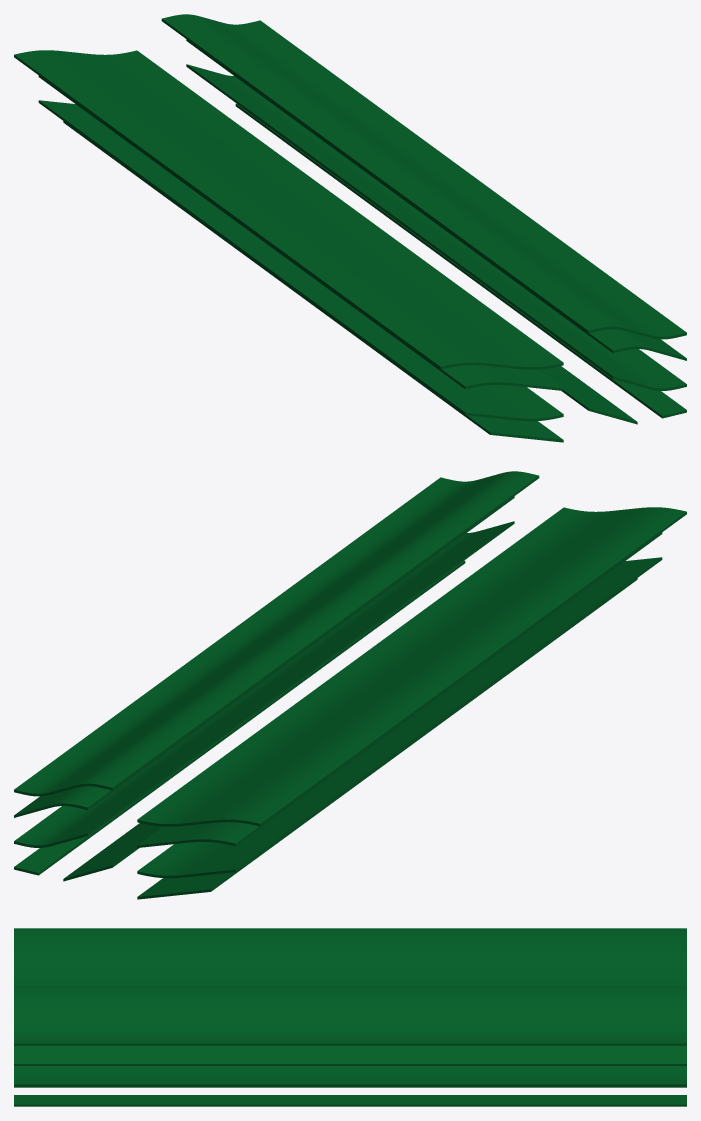
The model's file is Floor.glb.
The picture shows the model from 3 angles, top to bottom: view 1: azimuth 30°, elevation 25°; view 2: azimuth 150°, elevation 25°; view 3: azimuth 270°, elevation 25°; orthographic projection. The views are drawn at different scales.
Visible parts, largest first — view 1: Long-Ramp-EaseInOut-F-col, Ramp-EaseInOut-F-col, Long-Ramp-EaseIn-F-col, Ramp-EaseIn-F-col, Long-Ramp-EaseOut-F-col, Straight-F-col, Long-Ramp-F-col, Ramp-EaseOut-F-col, Ramp-F-col; view 2: Long-Ramp-EaseInOut-F-col, Ramp-EaseInOut-F-col, Long-Ramp-EaseIn-F-col, Ramp-EaseIn-F-col, Long-Ramp-EaseOut-F-col, Straight-F-col, Long-Ramp-F-col, Ramp-EaseOut-F-col, Ramp-F-col; view 3: Ramp-EaseInOut-F-col, Long-Ramp-EaseInOut-F-col, Ramp-EaseOut-F-col, Ramp-EaseIn-F-col, Straight-F-col, Ramp-F-col.
Part boxes in pixels (left/top/right/bottom): Long-Ramp-EaseInOut-F-col: left=14, top=50, right=563, bottom=369; Ramp-EaseInOut-F-col: left=161, top=14, right=686, bottom=339; Long-Ramp-EaseIn-F-col: left=38, top=100, right=563, bottom=421; Ramp-EaseIn-F-col: left=186, top=64, right=686, bottom=390; Long-Ramp-EaseOut-F-col: left=38, top=75, right=563, bottom=390; Straight-F-col: left=235, top=103, right=686, bottom=418; Long-Ramp-F-col: left=63, top=121, right=563, bottom=442; Ramp-EaseOut-F-col: left=186, top=39, right=686, bottom=360; Ramp-F-col: left=538, top=366, right=637, bottom=424; Long-Ramp-EaseInOut-F-col: left=137, top=507, right=686, bottom=826; Ramp-EaseInOut-F-col: left=14, top=471, right=539, bottom=796; Long-Ramp-EaseIn-F-col: left=137, top=557, right=662, bottom=878; Ramp-EaseIn-F-col: left=14, top=521, right=514, bottom=847; Long-Ramp-EaseOut-F-col: left=137, top=532, right=662, bottom=847; Straight-F-col: left=14, top=560, right=465, bottom=875; Long-Ramp-F-col: left=137, top=578, right=637, bottom=899; Ramp-EaseOut-F-col: left=14, top=496, right=514, bottom=817; Ramp-F-col: left=63, top=823, right=162, bottom=881; Ramp-EaseInOut-F-col: left=14, top=985, right=686, bottom=1045; Long-Ramp-EaseInOut-F-col: left=14, top=928, right=686, bottom=985; Ramp-EaseOut-F-col: left=14, top=1045, right=686, bottom=1065; Ramp-EaseIn-F-col: left=14, top=1066, right=686, bottom=1086; Straight-F-col: left=14, top=1095, right=686, bottom=1106; Ramp-F-col: left=14, top=1086, right=686, bottom=1087.
Size of the model in its own units: 10 by 4.1 by 30.
